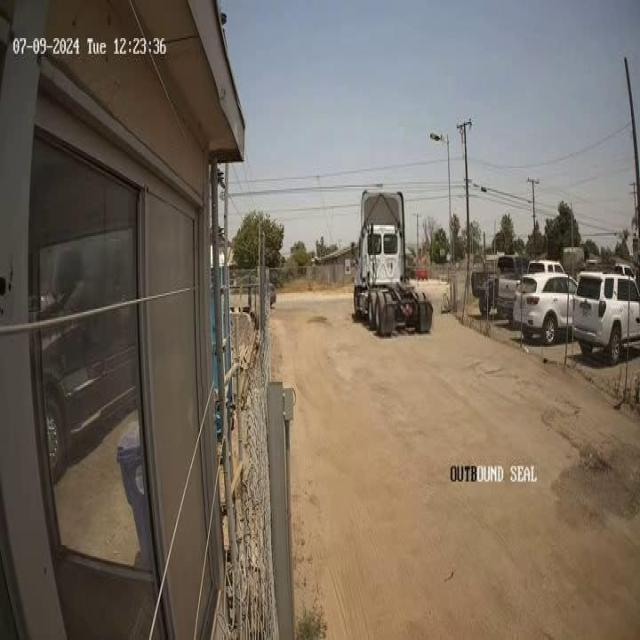BOBTAIL: (349, 188, 433, 336)
